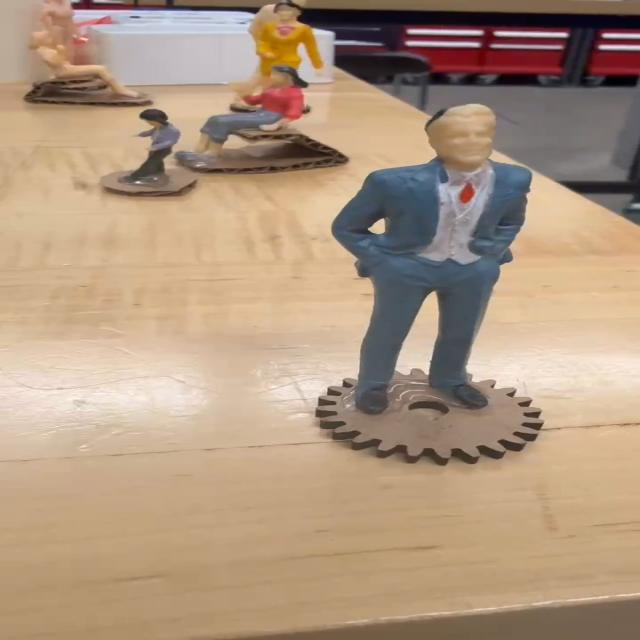Authorized: (318, 103, 582, 473)
